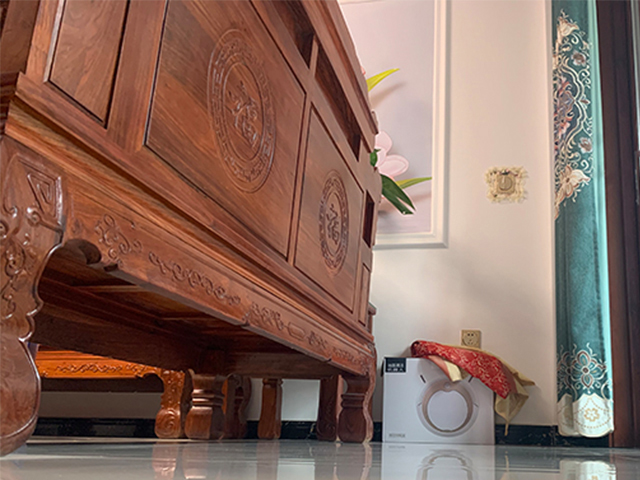curtain: (549, 1, 614, 436)
sofa: (1, 1, 382, 457)
